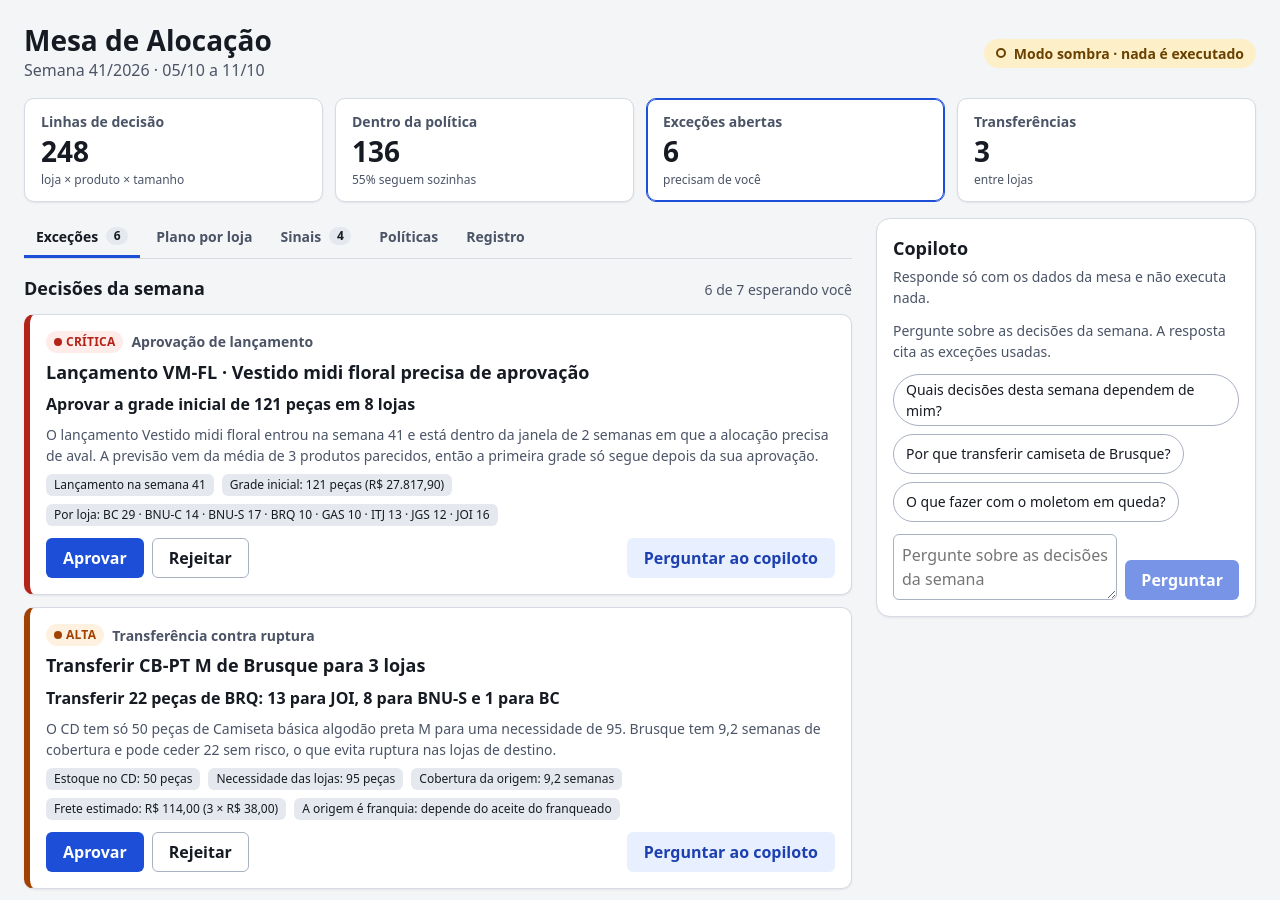
Test: AllocationDesk › pergunta ao copiloto sobre a exceção quando clico no botão do card
This screenshot has width=1280, height=900.
Click the button with test id "btn-ask-copilot" below "Grade inicial: 121 peças (R$ 27.817,90)". click: click(731, 558)
box: top-left (627, 538), bottom-right (835, 578)
(page scrolled)
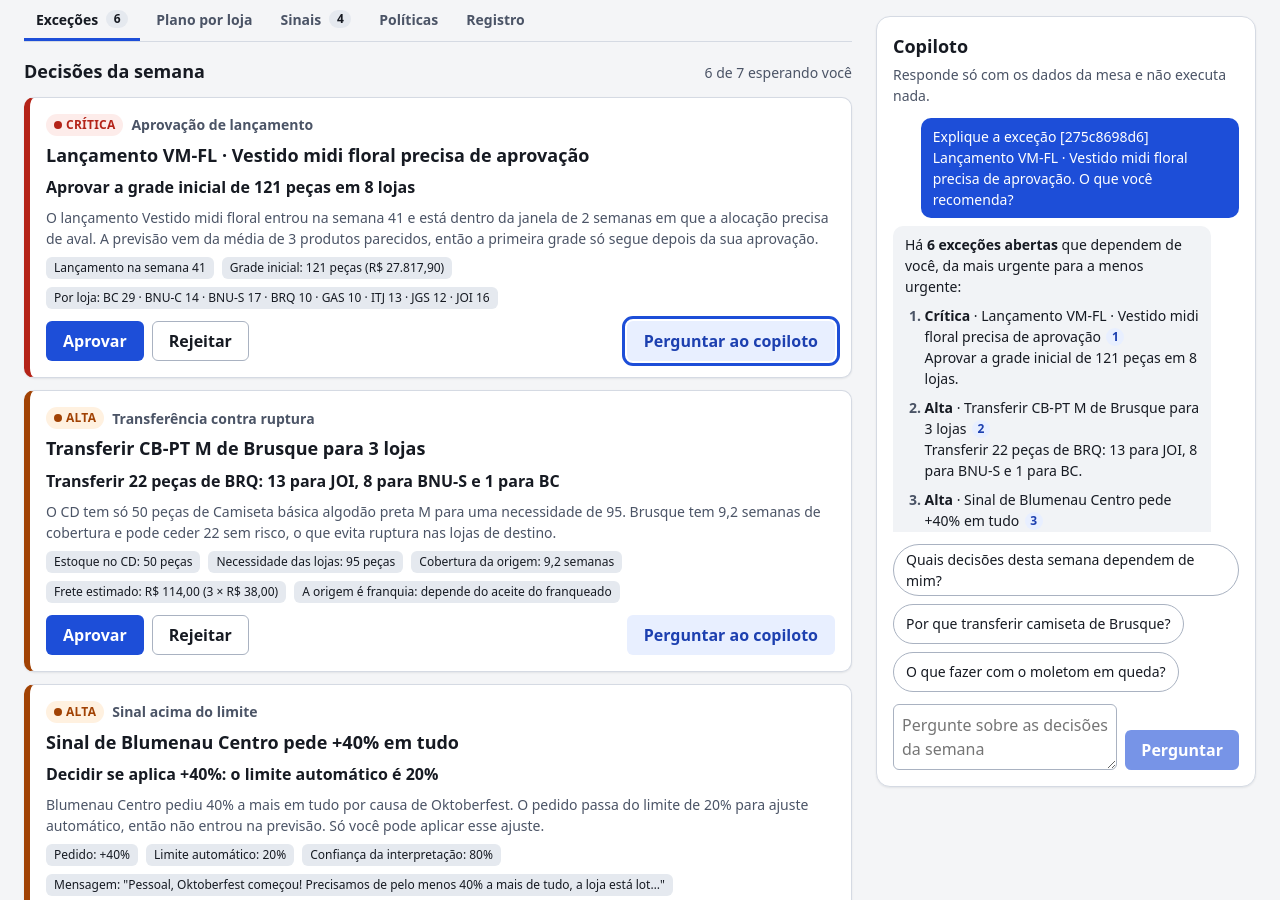
Check: the number of elements with test id "copilot-message" is 2
